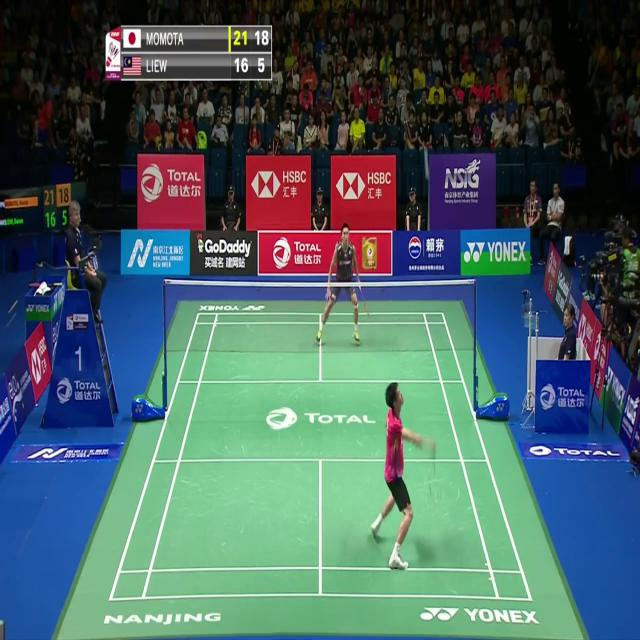Shuttlecock: (423, 156, 429, 168)
